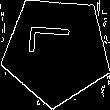L_E: (31, 33, 82, 68)
